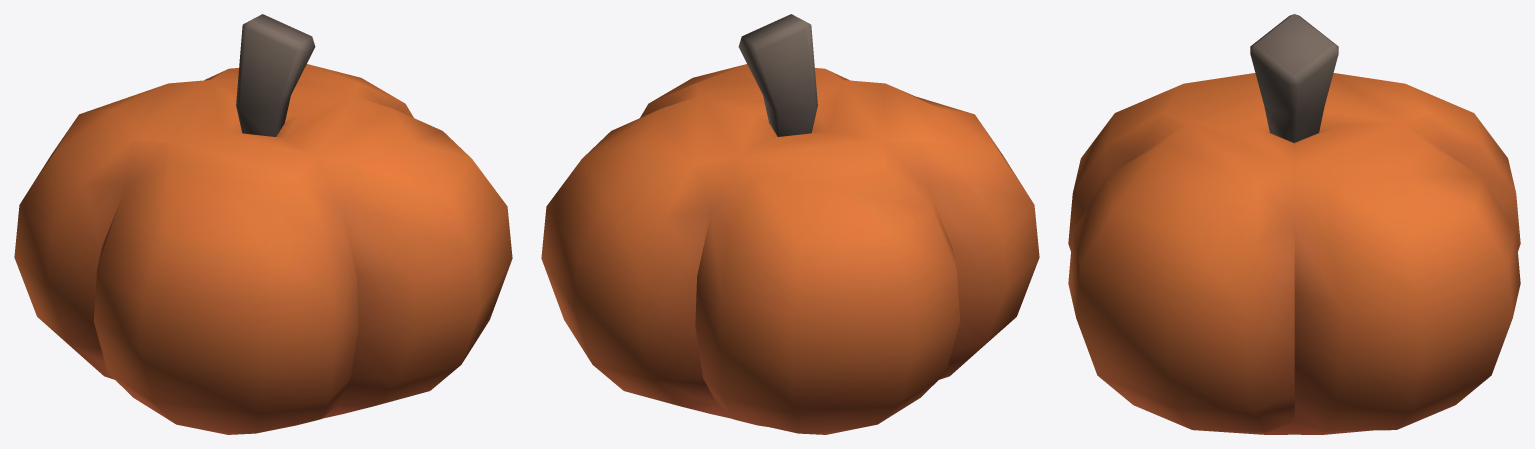
File: pumpkin_orange_small.glb
The picture shows the model from 3 angles, left to right: view 1: azimuth 30°, elevation 25°; view 2: azimuth 150°, elevation 25°; view 3: azimuth 270°, elevation 25°; orthographic projection.
Parts seen in each view (by area): view 1: pumpkin_orange_small; view 2: pumpkin_orange_small; view 3: pumpkin_orange_small.
Part boxes in pixels (<box>): pumpkin_orange_small: <box>14,14,512,434</box>; pumpkin_orange_small: <box>541,14,1039,434</box>; pumpkin_orange_small: <box>1068,14,1520,434</box>.
Bounding box in the file's own units: 0.6 × 0.55 × 0.6.
Materials: 1 (1 with a texture image).
